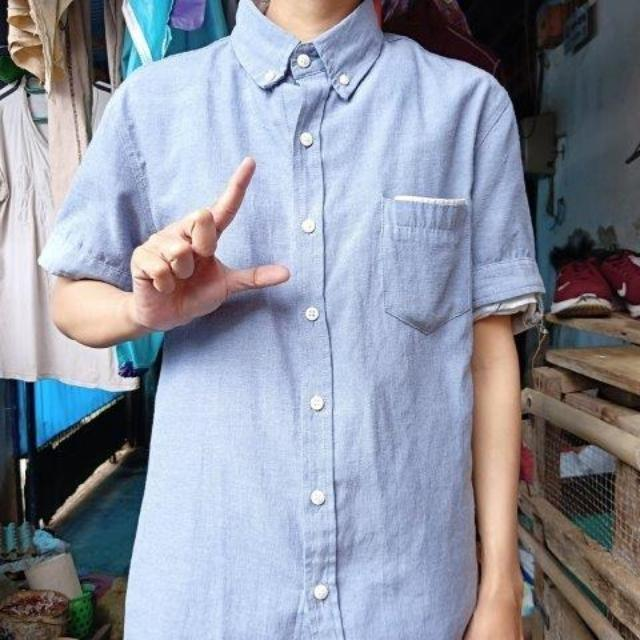L: (125, 150, 296, 341)
